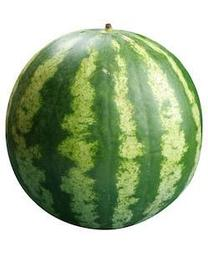watermelon: (7, 26, 202, 230)
